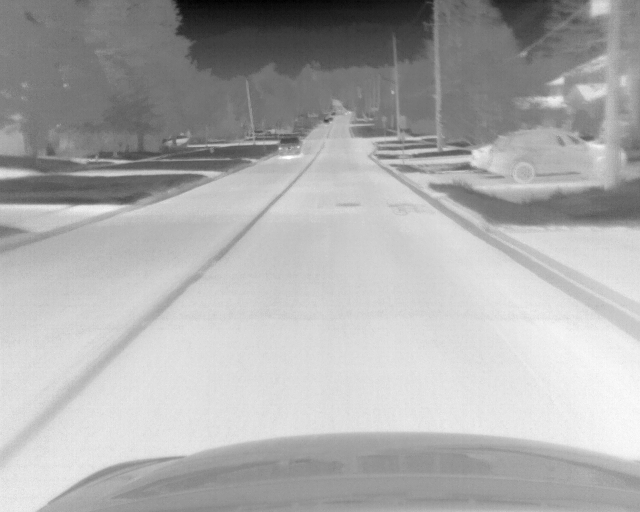car: (488, 126, 630, 181), (277, 133, 304, 162)
